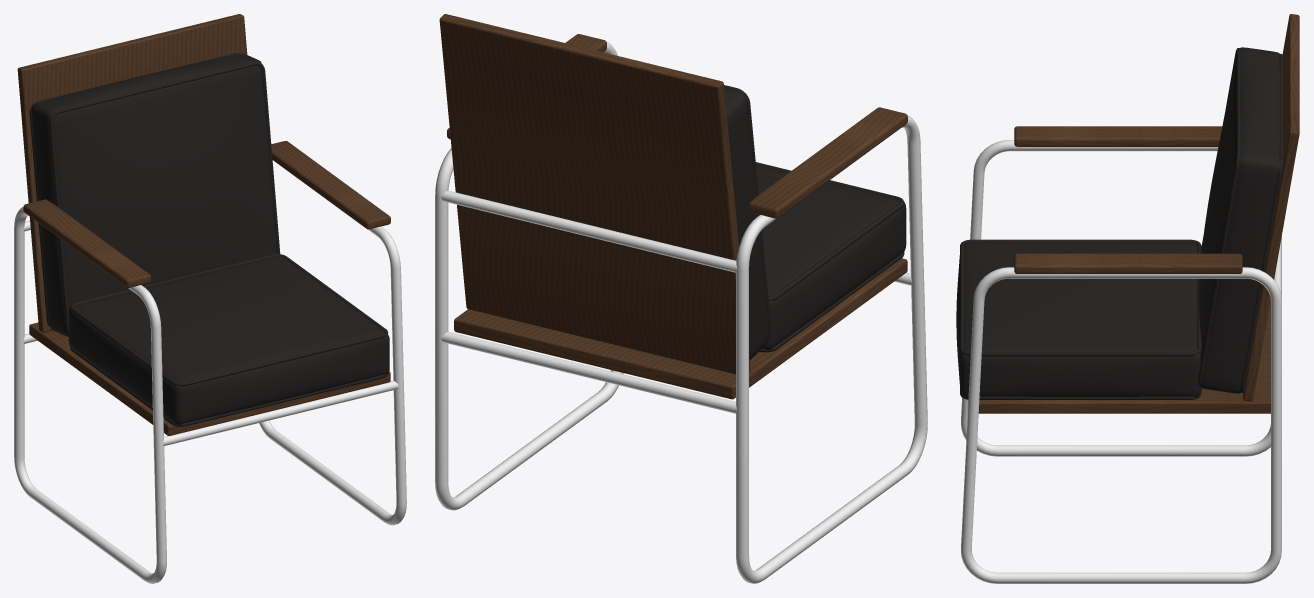
Rendered from desk_chair.glb.
The picture shows the model from 3 angles, left to right: view 1: azimuth 30°, elevation 25°; view 2: azimuth 150°, elevation 25°; view 3: azimuth 270°, elevation 25°; orthographic projection. The views are drawn at different scales.
Visible parts, largest first — view 1: DeskChair_BackCushion, DeskChair_SeatCushion, DeskChair_BackPanel, DeskChair_Frame_L, DeskChair_Frame_R, DeskChair_SeatBoard, DeskChair_ArmCap_L, DeskChair_ArmCap_R, DeskChair_BackCushion_Piping1, DeskChair_SeatCushion_Piping0, DeskChair_RailFront, DeskChair_SeatCushion_Piping1 (+1 smaller); view 2: DeskChair_BackPanel, DeskChair_SeatCushion, DeskChair_Frame_L, DeskChair_SeatBoard, DeskChair_Frame_R, DeskChair_ArmCap_L, DeskChair_BackCushion, DeskChair_RailBack, DeskChair_RailRear, DeskChair_SeatCushion_Piping0, DeskChair_BackCushion_Piping1, DeskChair_SeatCushion_Piping1; view 3: DeskChair_SeatCushion, DeskChair_BackCushion, DeskChair_Frame_R, DeskChair_Frame_L, DeskChair_SeatBoard, DeskChair_BackPanel, DeskChair_ArmCap_R, DeskChair_ArmCap_L, DeskChair_SeatCushion_Piping0, DeskChair_BackCushion_Piping1, DeskChair_BackCushion_Piping0, DeskChair_SeatCushion_Piping1.
Part boxes in pixels (x1,y1,x2,y2): DeskChair_BackCushion: (31,53,276,336); DeskChair_SeatCushion: (68,256,389,424); DeskChair_BackPanel: (17,14,247,332); DeskChair_Frame_L: (14,206,166,583); DeskChair_Frame_R: (259,226,406,525); DeskChair_SeatBoard: (29,322,390,435); DeskChair_ArmCap_L: (23,199,151,287); DeskChair_ArmCap_R: (271,141,390,229); DeskChair_BackCushion_Piping1: (49,61,280,334); DeskChair_SeatCushion_Piping0: (70,254,388,386); DeskChair_RailFront: (163,380,399,445); DeskChair_SeatCushion_Piping1: (70,347,387,426); DeskChair_BackPanel: (439,14,750,374); DeskChair_SeatCushion: (756,164,906,349); DeskChair_Frame_L: (736,115,927,583); DeskChair_SeatBoard: (454,258,907,399); DeskChair_Frame_R: (435,42,623,510); DeskChair_ArmCap_L: (749,107,907,218); DeskChair_BackCushion: (724,88,768,360); DeskChair_RailBack: (441,190,737,272); DeskChair_RailRear: (441,331,737,413); DeskChair_SeatCushion_Piping0: (755,162,904,300); DeskChair_BackCushion_Piping1: (724,85,771,337); DeskChair_SeatCushion_Piping1: (759,252,904,352); DeskChair_SeatCushion: (956,241,1200,396); DeskChair_BackCushion: (1199,47,1280,393); DeskChair_Frame_R: (961,267,1281,583); DeskChair_Frame_L: (961,140,1281,456); DeskChair_SeatBoard: (978,300,1270,413); DeskChair_BackPanel: (1243,14,1299,401); DeskChair_ArmCap_R: (1014,253,1242,273); DeskChair_ArmCap_L: (1014,126,1222,146); DeskChair_SeatCushion_Piping0: (960,239,1201,356); DeskChair_BackCushion_Piping1: (1198,48,1240,385); DeskChair_BackCushion_Piping0: (1240,54,1283,393); DeskChair_SeatCushion_Piping1: (960,388,1201,399).
Bounding box in the file's own units: 0.64 × 0.9497 × 0.6609.
3 materials, 1 textured.
